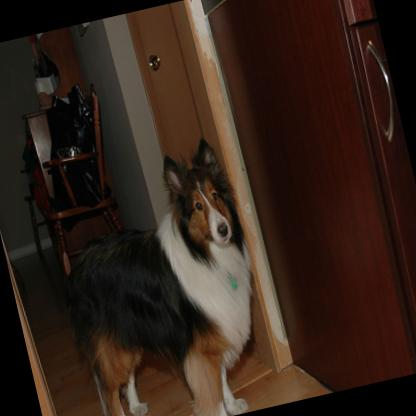Shetland_sheepdog: (36, 130, 283, 416)
